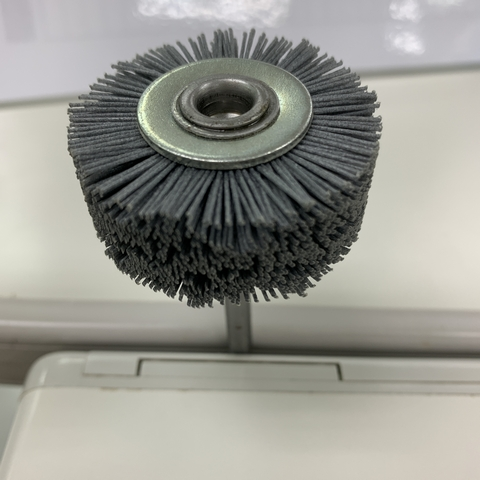Wheel Brush: (73, 32, 375, 362), (115, 45, 377, 355), (110, 35, 371, 300)
